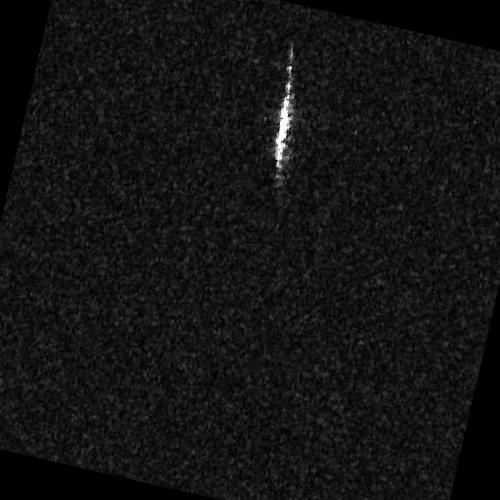ship: (272, 62, 295, 170)
